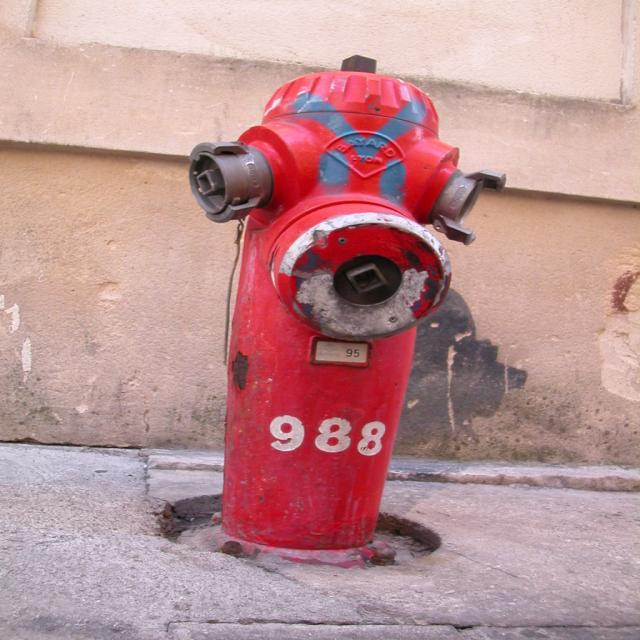fire_hydrant: (188, 54, 507, 558)
